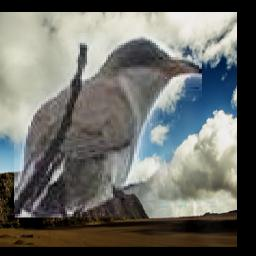Cuckoo: (14, 34, 202, 218)
